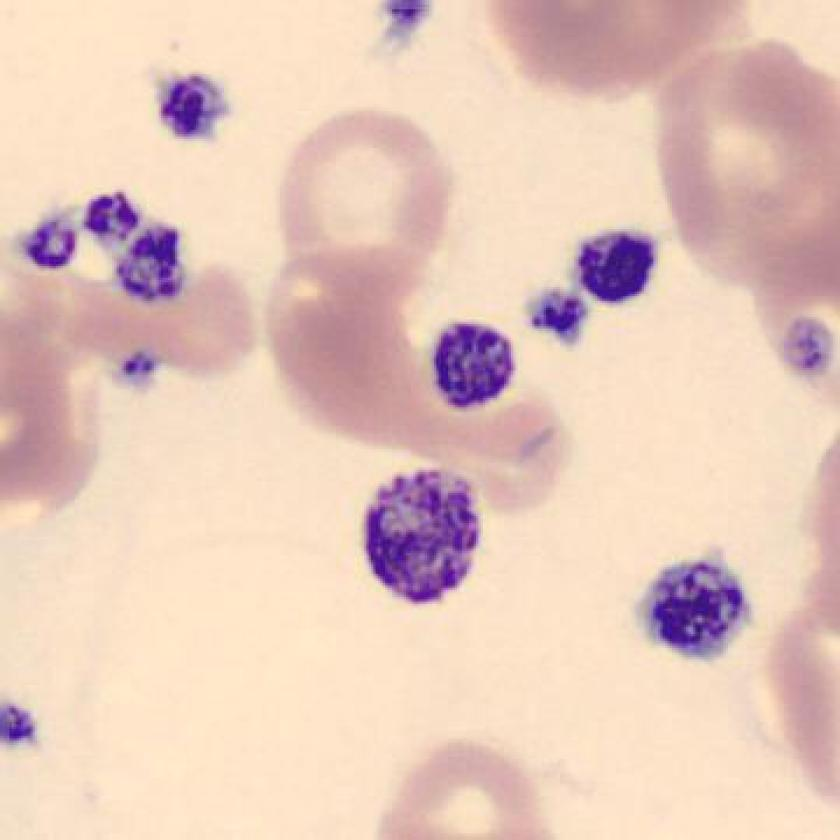platelets: (349, 459, 500, 617), (622, 540, 771, 672), (419, 309, 528, 415), (143, 54, 244, 161), (561, 217, 666, 314), (108, 216, 197, 311), (13, 200, 90, 290), (71, 177, 150, 262), (524, 276, 601, 362), (768, 306, 840, 392)
